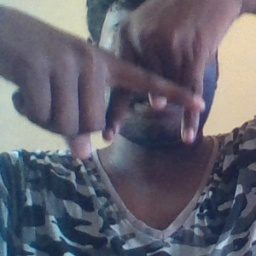H: (97, 20, 213, 154)
